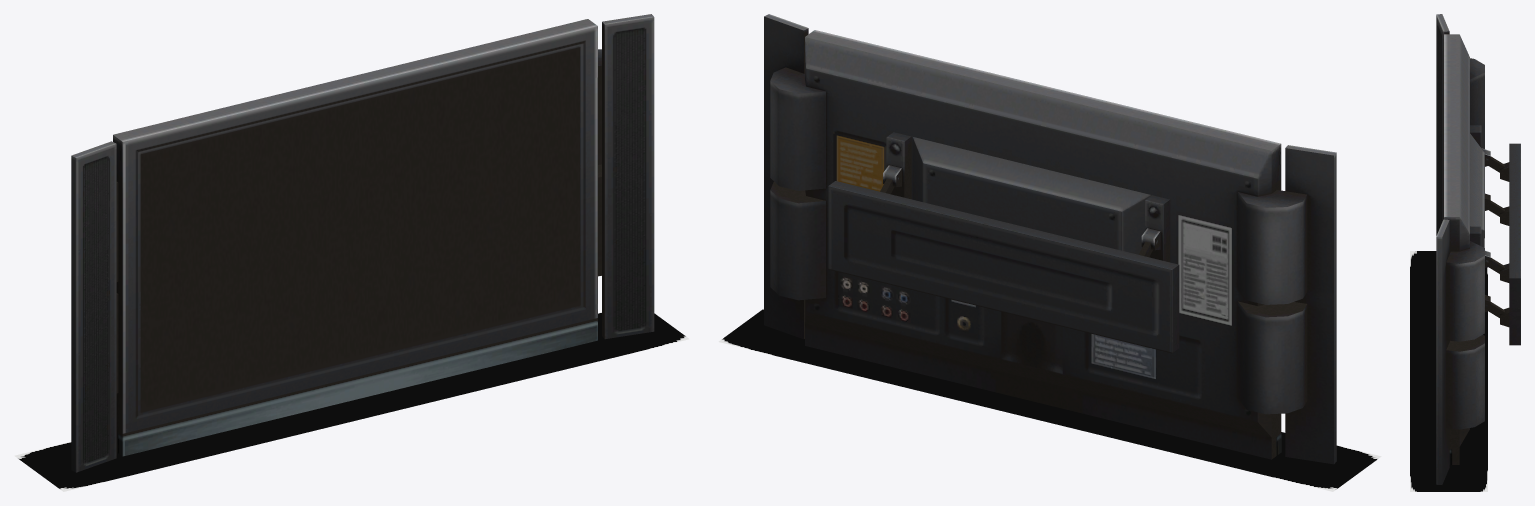
File: jj_ty_dianshi01.FBX
3 views of the same model, side by side, from view 1: azimuth 30°, elevation 25°; view 2: azimuth 150°, elevation 25°; view 3: azimuth 270°, elevation 25° (orthographic). The views are drawn at different scales.
Parts seen in each view (by area): view 1: jj_ty_dianshi01, shadow; view 2: jj_ty_dianshi01, shadow; view 3: jj_ty_dianshi01, shadow.
Part boxes in pixels (x1,y1,x2,y2): jj_ty_dianshi01: (71,14,654,472); shadow: (14,312,689,491); jj_ty_dianshi01: (764,14,1336,464); shadow: (718,309,1381,491); jj_ty_dianshi01: (1436,14,1520,484); shadow: (1410,251,1487,491).
Size of the model in its own units: 199 by 96.87 by 38.67.
